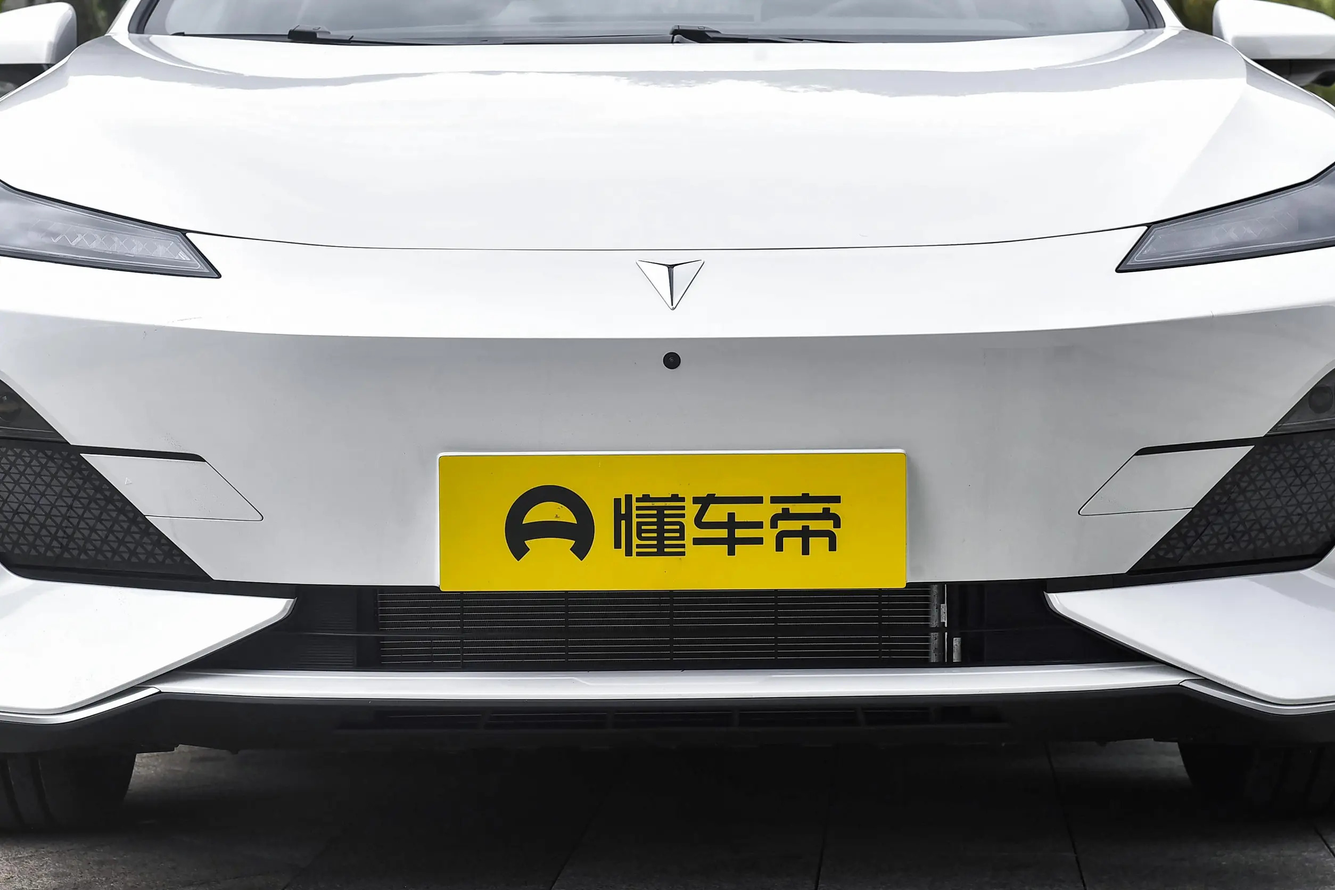Deepal: (636, 259, 704, 309)
